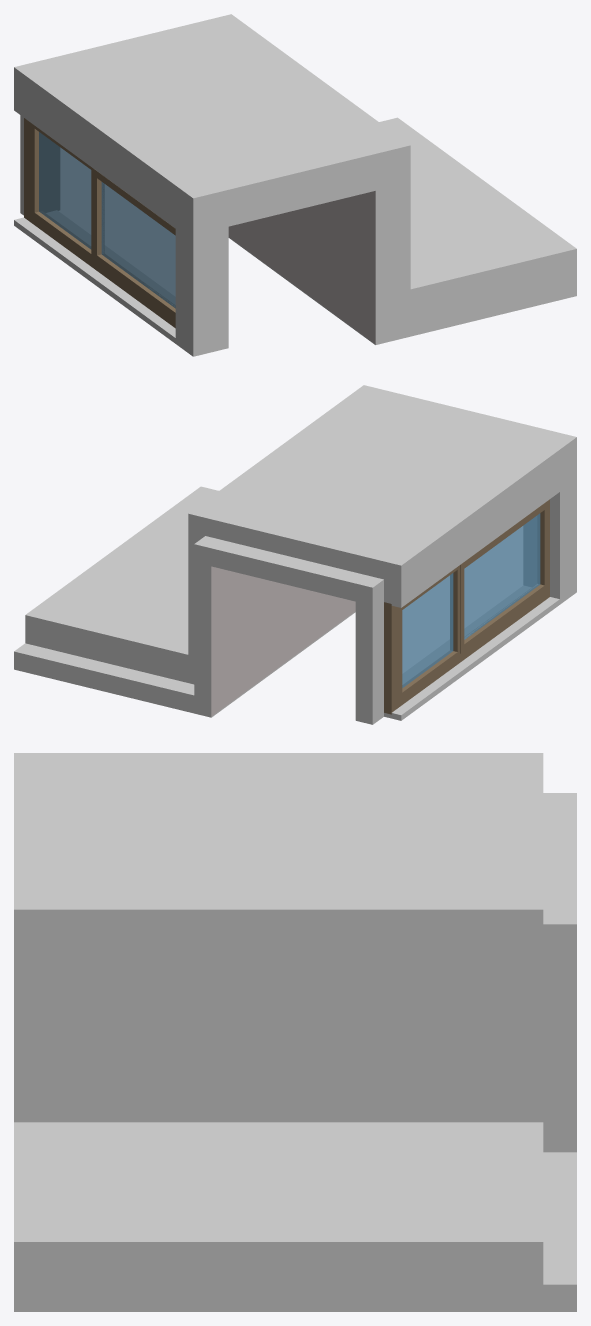
The model's file is BRU_MP_T_S_1_Grenadin_25_L.gltf.
3 views of the same model, one above another, from view 1: azimuth 30°, elevation 25°; view 2: azimuth 150°, elevation 25°; view 3: azimuth 270°, elevation 25° (orthographic). The views are drawn at different scales.
Parts seen in each view (by area): view 1: root; view 2: root; view 3: root.
Boxes of the visible parts, <box> form: root: <box>14,14,576,356</box>; root: <box>14,385,576,724</box>; root: <box>14,753,576,1311</box>.
Bounding box in the file's own units: 3.48 × 1.66 × 3.
